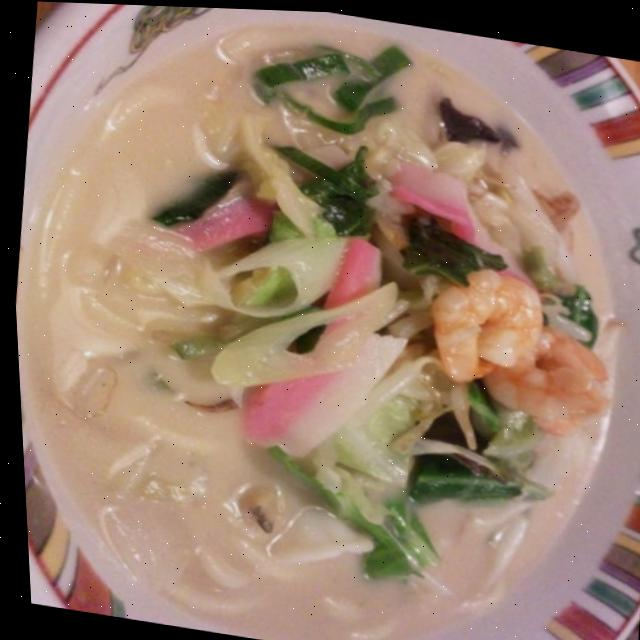米饭主食: (211, 244, 640, 637)
